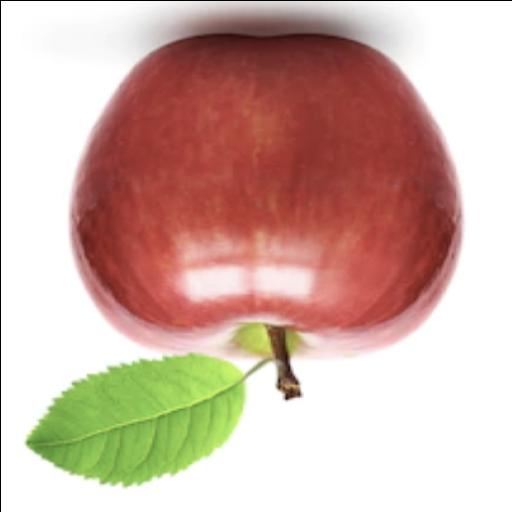apple: (71, 35, 462, 357)
